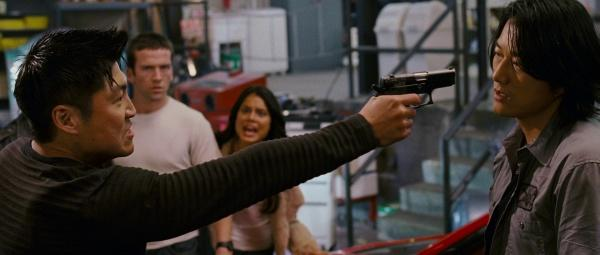Gun: (374, 64, 457, 103)
